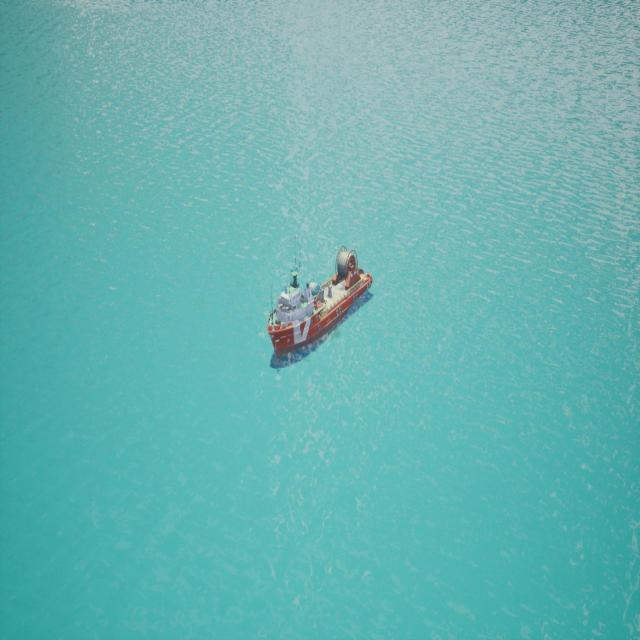tug boat: (266, 250, 374, 372)
